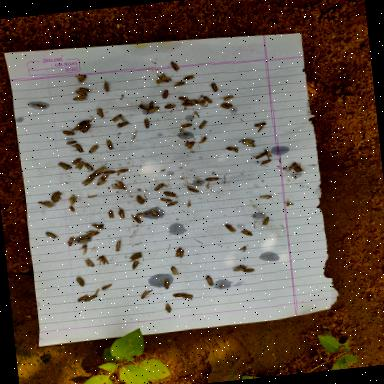pbw: (110, 113, 127, 124), (69, 143, 85, 154), (292, 160, 304, 174), (222, 144, 238, 154), (72, 88, 88, 98), (174, 247, 188, 258), (260, 194, 278, 202), (78, 118, 94, 127), (136, 194, 148, 206), (163, 190, 179, 199), (101, 282, 114, 293), (140, 290, 154, 300), (102, 79, 110, 96), (169, 60, 180, 72), (79, 124, 91, 135), (58, 161, 71, 171), (74, 74, 87, 84), (127, 255, 143, 263), (75, 86, 91, 94), (114, 238, 123, 252), (137, 100, 149, 110), (88, 144, 100, 154), (83, 162, 95, 172), (42, 200, 54, 210), (76, 276, 86, 288), (83, 295, 100, 302), (244, 141, 261, 148), (60, 128, 74, 136), (90, 223, 104, 231), (70, 124, 84, 132), (180, 122, 194, 130), (250, 153, 266, 160), (76, 294, 90, 302), (150, 209, 160, 220), (98, 256, 109, 266), (209, 82, 219, 93), (225, 224, 236, 234), (132, 213, 142, 224), (240, 228, 252, 237), (205, 176, 223, 182), (205, 275, 214, 287), (166, 200, 181, 207), (233, 265, 248, 272), (46, 232, 59, 240), (81, 178, 94, 186), (116, 166, 129, 174), (198, 120, 208, 130), (160, 89, 169, 100), (202, 95, 213, 104), (184, 141, 195, 150), (188, 187, 202, 194), (130, 252, 144, 259), (136, 212, 152, 218), (106, 138, 114, 150), (154, 183, 166, 191), (164, 302, 172, 314), (70, 158, 82, 166), (182, 292, 194, 300), (82, 233, 98, 239), (132, 260, 142, 269), (219, 96, 234, 102), (170, 266, 179, 276), (261, 216, 270, 226), (93, 168, 104, 176), (96, 178, 107, 186), (80, 244, 88, 255), (264, 147, 272, 158), (261, 159, 273, 166), (144, 116, 150, 130), (182, 74, 196, 80), (88, 172, 102, 178), (161, 76, 173, 83), (146, 106, 160, 112), (160, 196, 174, 202), (87, 258, 95, 268), (66, 237, 74, 247), (74, 162, 84, 170), (96, 108, 104, 118), (242, 138, 255, 144), (73, 96, 86, 102), (219, 103, 230, 110), (181, 102, 196, 107), (178, 96, 190, 102), (159, 75, 168, 83), (184, 98, 196, 104), (117, 122, 129, 128), (164, 278, 170, 290), (255, 121, 267, 127), (100, 174, 110, 181), (76, 238, 90, 243), (197, 137, 207, 144), (88, 230, 102, 235), (195, 100, 206, 106), (165, 104, 176, 110), (243, 268, 256, 273), (99, 167, 108, 174), (172, 292, 182, 298), (66, 140, 76, 146), (171, 82, 186, 86), (102, 170, 116, 174), (77, 236, 91, 240), (288, 166, 297, 172), (148, 101, 154, 110), (108, 210, 114, 219), (238, 246, 246, 252), (71, 195, 76, 204), (84, 260, 90, 267), (257, 126, 264, 132), (69, 205, 75, 212), (284, 202, 294, 206), (88, 194, 98, 198), (285, 199, 290, 207)
